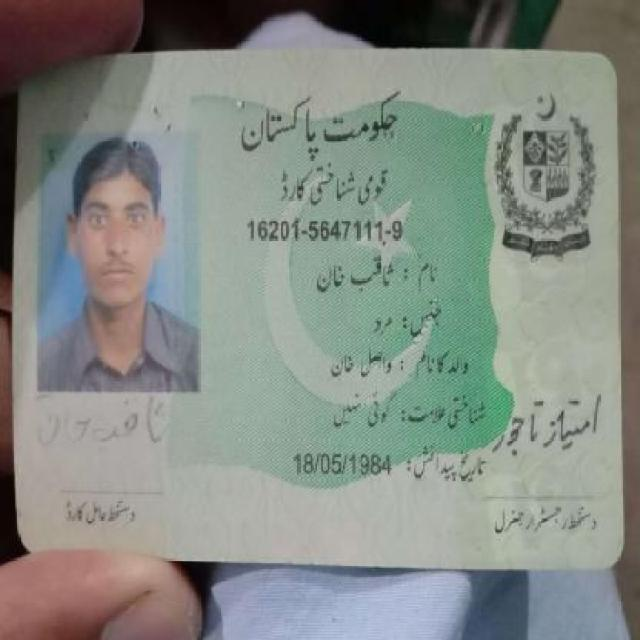Front: (14, 38, 631, 571)
